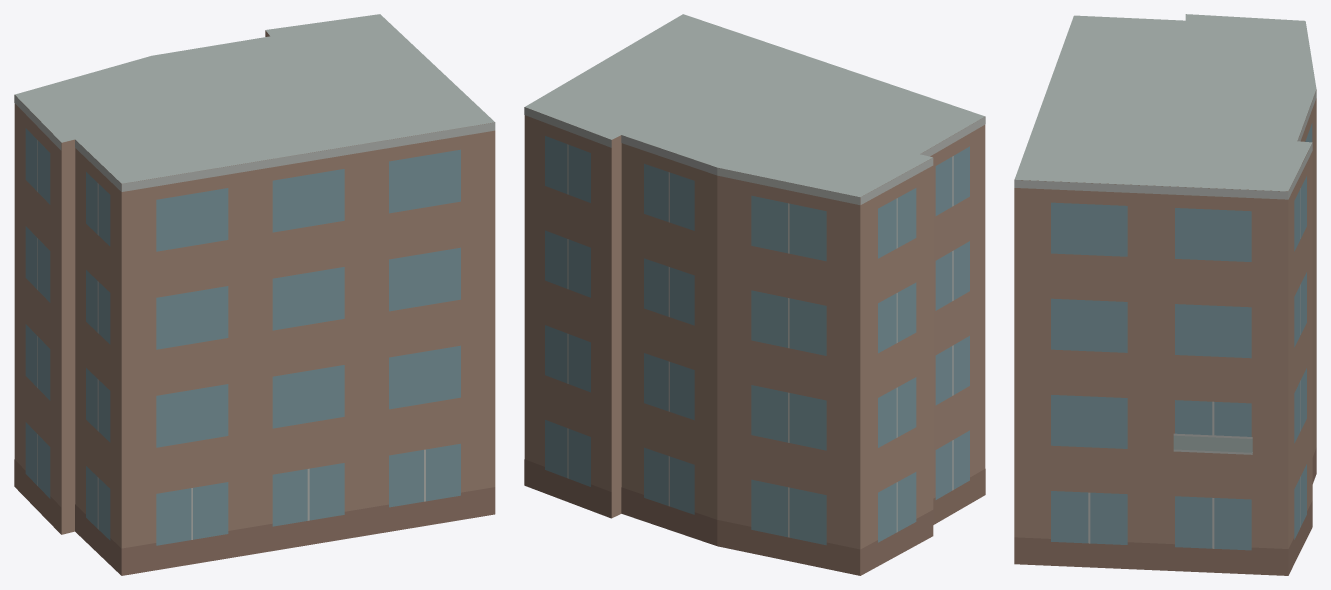
The model's file is survey-upis-32662966.glb.
3 renders of one model, left to right at view 1: azimuth 30°, elevation 25°; view 2: azimuth 150°, elevation 25°; view 3: azimuth 270°, elevation 25°, orthographic. The views are drawn at different scales.
Parts seen in each view (by area): view 1: survey-upis-32662966.tmp; view 2: survey-upis-32662966.tmp; view 3: survey-upis-32662966.tmp.
Part boxes in pixels (bbox=[...]): survey-upis-32662966.tmp: bbox=[14, 14, 495, 575]; survey-upis-32662966.tmp: bbox=[524, 14, 985, 575]; survey-upis-32662966.tmp: bbox=[1014, 14, 1316, 575].
Size of the model in its own units: 11.4 by 11.5 by 8.2.
